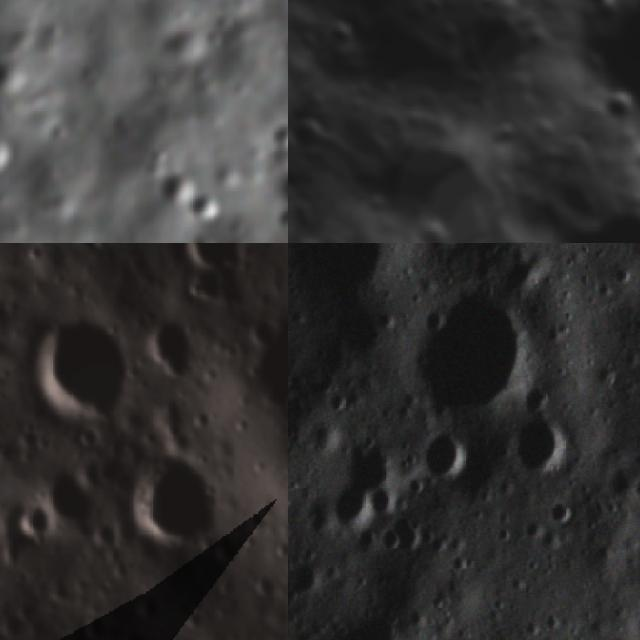crater: (348, 84, 533, 243), (403, 276, 532, 418), (21, 308, 134, 417), (448, 0, 557, 99), (120, 442, 219, 549), (320, 433, 405, 536), (499, 403, 577, 483), (290, 598, 424, 640), (36, 458, 100, 528), (142, 310, 199, 384), (412, 424, 475, 487), (309, 2, 365, 58), (587, 77, 639, 132), (154, 164, 208, 216), (179, 243, 248, 280), (10, 498, 57, 545), (404, 207, 461, 243), (190, 185, 237, 228), (546, 0, 621, 26), (0, 51, 40, 99), (246, 314, 286, 355), (42, 570, 80, 608), (76, 599, 110, 640), (0, 124, 24, 181), (112, 618, 160, 640), (248, 568, 279, 601), (159, 393, 190, 422), (13, 598, 42, 625), (382, 0, 433, 15), (182, 611, 208, 637), (272, 203, 288, 238)
